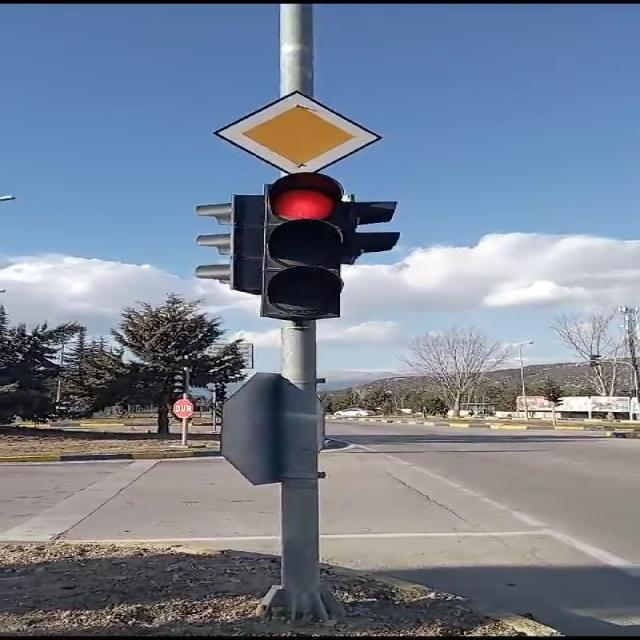kirmizi: (261, 172, 399, 318)
